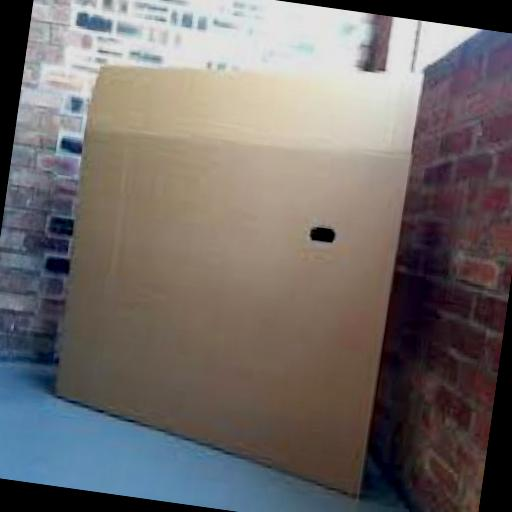cardboard: (38, 23, 424, 498)
